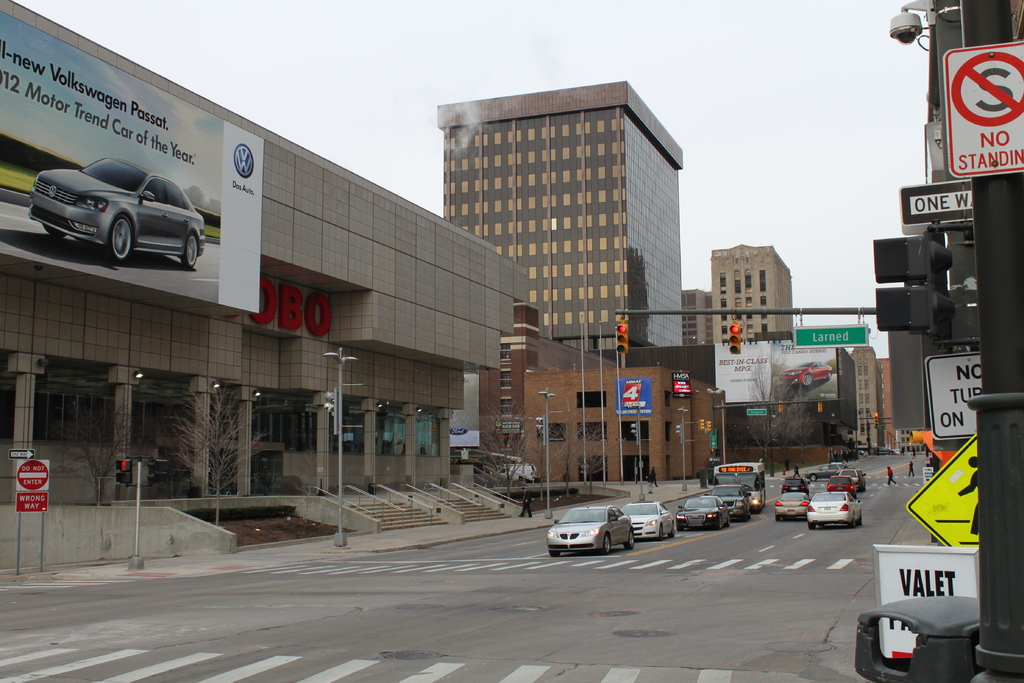Car: (22, 148, 202, 267), (773, 461, 868, 524), (545, 503, 638, 554), (620, 501, 672, 543), (675, 493, 728, 528), (708, 481, 750, 520), (874, 445, 897, 456)
